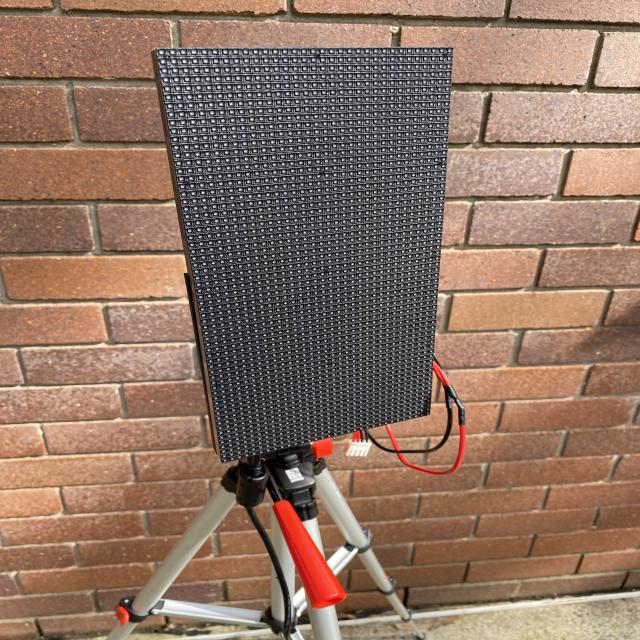matrix: (149, 44, 449, 468)
